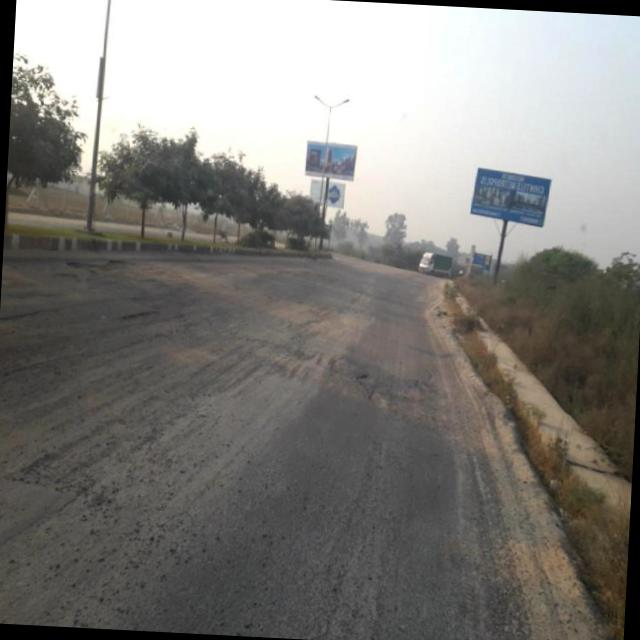pothole: (349, 361, 454, 412)
